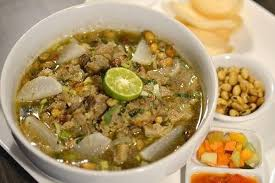soto: (14, 16, 202, 166)
